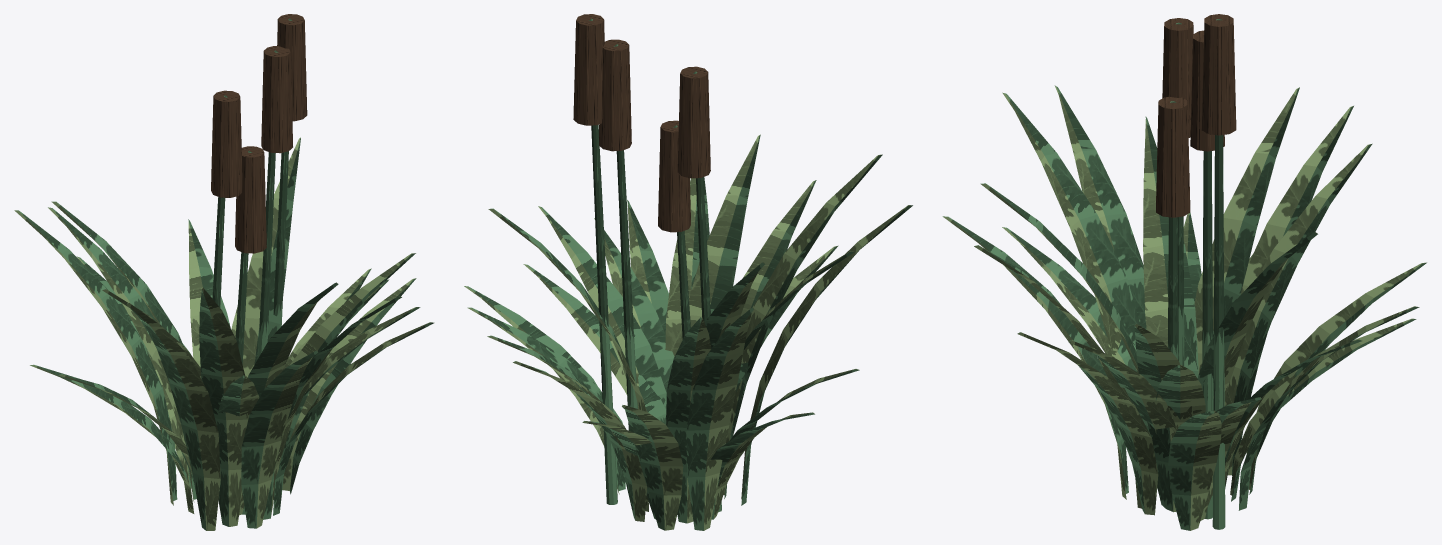
The model's file is river_reeds.glb.
3 views of the same model, side by side, from view 1: azimuth 30°, elevation 25°; view 2: azimuth 150°, elevation 25°; view 3: azimuth 270°, elevation 25° (orthographic). The views are drawn at different scales.
Parts seen in each view (by area): view 1: river_reeds; view 2: river_reeds; view 3: river_reeds.
Boxes of the visible parts, left/top/right/bottom form: river_reeds: left=14, top=14, right=434, bottom=530; river_reeds: left=464, top=14, right=912, bottom=530; river_reeds: left=942, top=14, right=1426, bottom=530.
Bounding box in the file's own units: 0.6919 × 0.8209 × 0.6956.
Materials: 1 (1 with a texture image).
